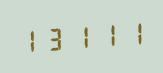one: (68, 20, 92, 52), (18, 24, 42, 55), (93, 19, 117, 50), (118, 17, 142, 48)
three: (43, 22, 67, 53)
